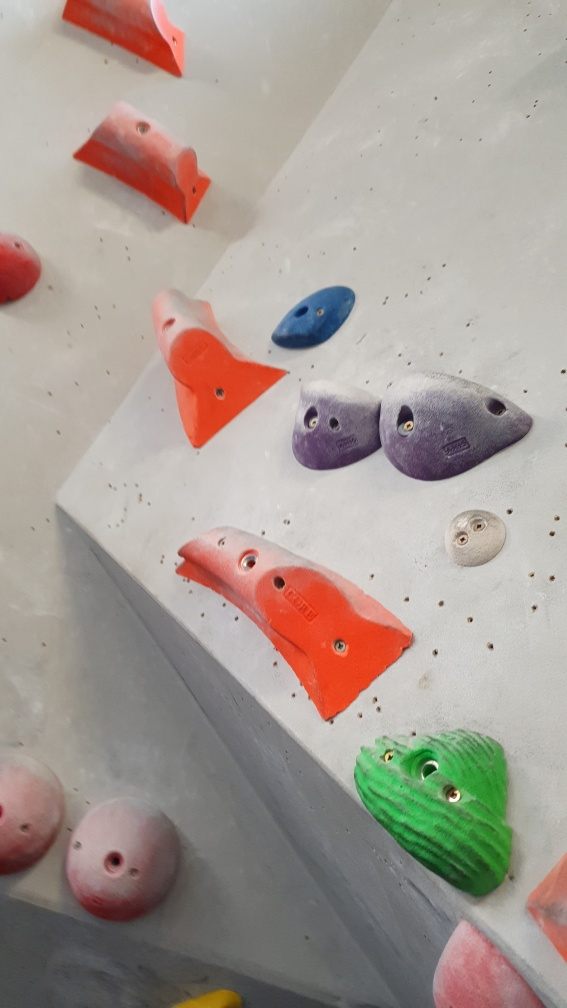Crimp: (270, 282, 360, 352)
Jug: (346, 728, 520, 900), (378, 369, 537, 478), (289, 376, 389, 473)
Pinch: (172, 523, 416, 731), (148, 287, 292, 448), (71, 97, 216, 226), (60, 1, 190, 80)
Sloper: (66, 792, 186, 930), (1, 748, 69, 884)
